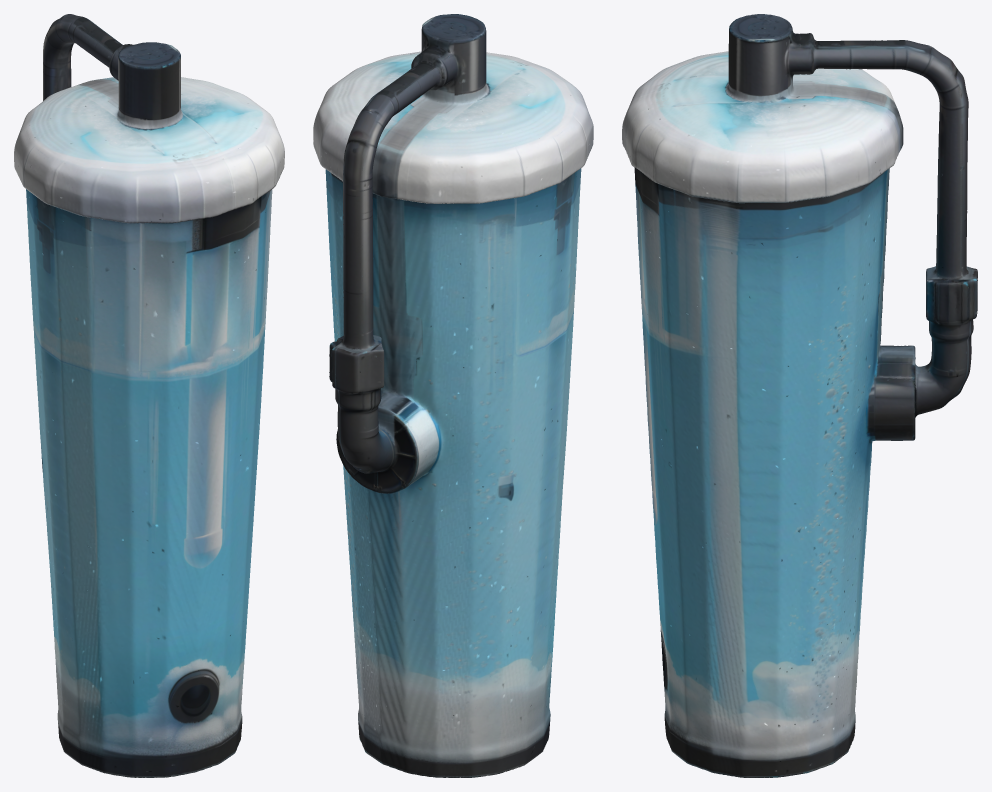
File: Skimmer_texture.glb
3 views of the same model, side by side, from view 1: azimuth 30°, elevation 25°; view 2: azimuth 150°, elevation 25°; view 3: azimuth 270°, elevation 25° (orthographic). The views are drawn at different scales.
Size of the model in its own units: 0.7061 by 2 by 0.9074.
1 material, 1 textured.
